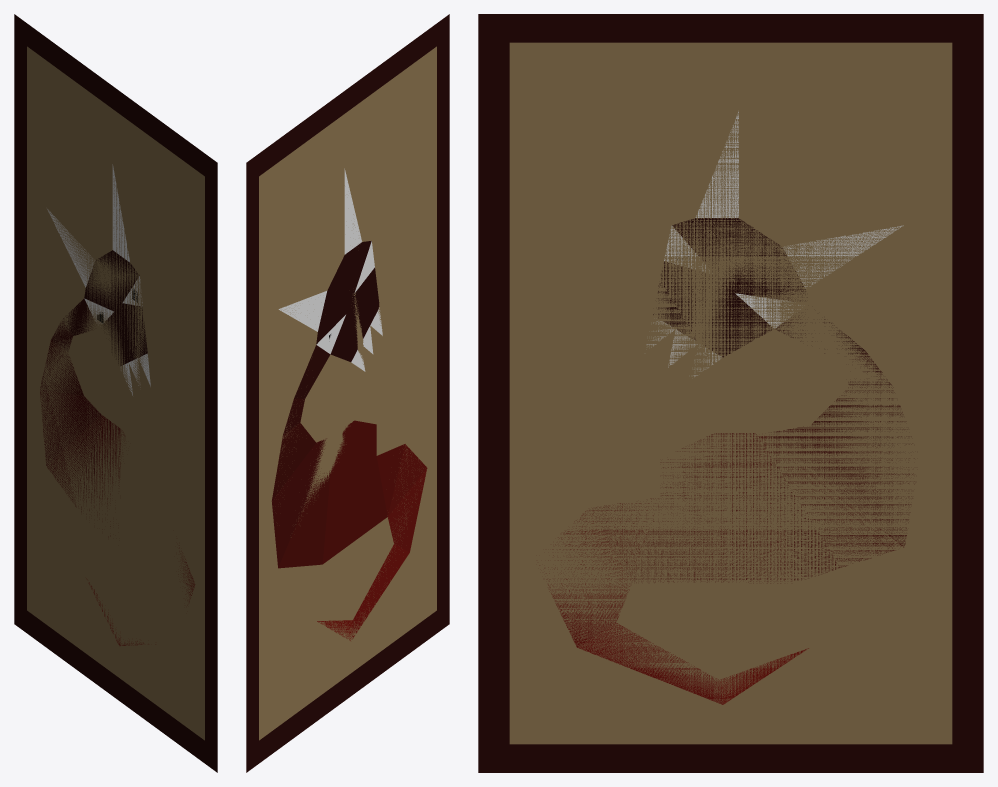
Rendered from model_loc_955_q.obj.
3 renders of one model, left to right at view 1: azimuth 30°, elevation 25°; view 2: azimuth 150°, elevation 25°; view 3: azimuth 270°, elevation 25°, orthographic. The views are drawn at different scales.
Visible parts, largest first — view 1: 2291; view 2: 2291; view 3: 2291.
Part boxes in pixels (x1=…): 2291: x1=14, y1=14, x2=217, y2=772; 2291: x1=246, y1=14, x2=449, y2=772; 2291: x1=478, y1=14, x2=983, y2=772.
Bounding box in the file's own units: 0 × 212 × 128.
